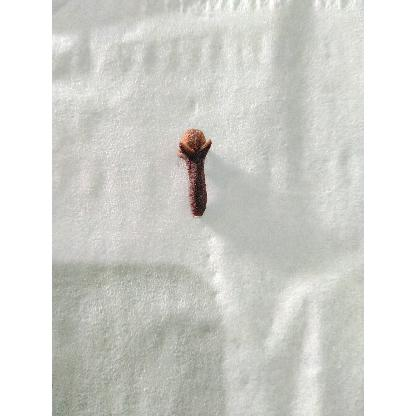baik: (179, 130, 212, 218)
